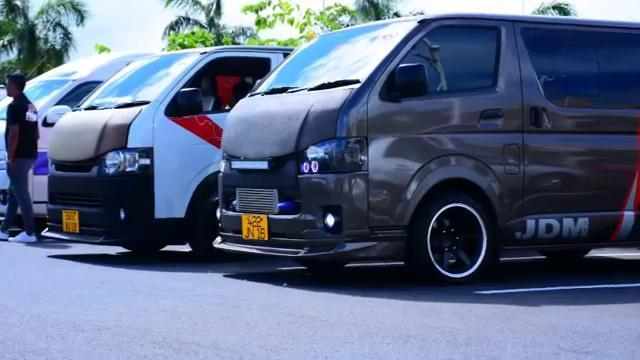van: (218, 14, 639, 282), (46, 44, 273, 258)
